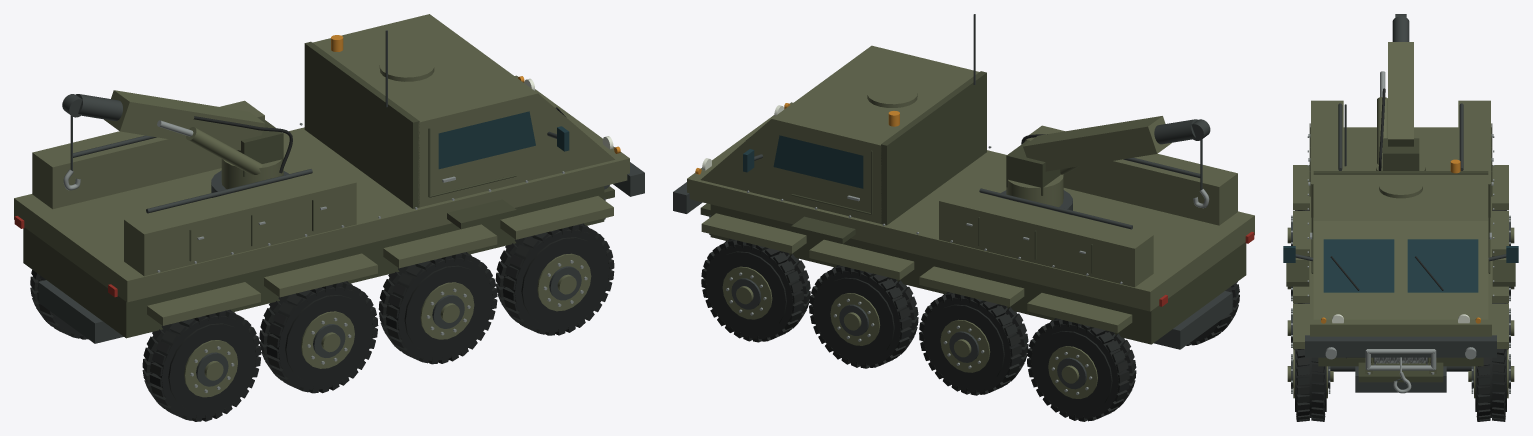
Rendered from vehicle.glb.
3 views of the same model, side by side, from view 1: azimuth 30°, elevation 25°; view 2: azimuth 150°, elevation 25°; view 3: azimuth 270°, elevation 25° (orthographic). The views are drawn at different scales.
Visible parts, largest first — view 1: run-flat wheel (×5), R8 recovery vehicle, deck, tool locker (×2), cab rear wall, wheel guard (×4), lower armored hull, recovery crane, main crane boom, chassis, recovery stowage, entry step (+2 smaller); view 2: run-flat wheel (×5), R8 recovery vehicle, deck, tool locker (×2), cab rear wall, wheel guard (×4), lower armored hull, main crane boom, recovery crane, chassis, recovery stowage, crane pivot (+1 smaller); view 3: R8 recovery vehicle, deck, wheel guard (×8), run-flat wheel (×2), tool locker (×2), front bumper, main crane boom, mounted WR-12, recovery crane, mounting skid, entry step (×2), chassis (+4 smaller).
Part boxes in pixels (x1,y1,x2,y2): run-flat wheel (×5): (30, 223, 614, 421); R8 recovery vehicle: (14, 14, 620, 297); deck: (14, 75, 629, 302); tool locker (×2): (32, 100, 356, 276); cab rear wall: (304, 41, 419, 208); wheel guard (×4): (147, 196, 613, 325); lower armored hull: (23, 186, 604, 338); recovery crane: (62, 94, 292, 197); main crane boom: (104, 90, 265, 150); chassis: (38, 198, 605, 343); recovery stowage: (73, 135, 326, 261); entry step: (447, 199, 516, 229); run-flat wheel (×5): (701, 238, 1239, 421); R8 recovery vehicle: (695, 14, 1254, 306); deck: (687, 102, 1254, 311); tool locker (×2): (939, 125, 1237, 287); cab rear wall: (881, 71, 986, 225); wheel guard (×4): (701, 213, 1132, 333); lower armored hull: (710, 204, 1246, 344); main crane boom: (1023, 116, 1171, 171); recovery crane: (998, 119, 1210, 214); chassis: (709, 215, 1232, 349); recovery stowage: (966, 157, 1200, 273); crane pivot: (1006, 140, 1060, 195); R8 recovery vehicle: (1295, 104, 1506, 371); deck: (1310, 127, 1491, 336); wheel guard (×8): (1293, 165, 1508, 348); run-flat wheel (×2): (1287, 349, 1514, 421); tool locker (×2): (1311, 100, 1490, 217); front bumper: (1305, 335, 1496, 357); main crane boom: (1388, 42, 1413, 146); mounted WR-12: (1345, 349, 1436, 374); recovery crane: (1376, 14, 1425, 170); mounting skid: (1358, 362, 1443, 382); entry step (×2): (1286, 260, 1515, 286); chassis: (1355, 366, 1446, 392).
Bounding box in the file's own units: 6.68 × 3.71 × 3.1.
